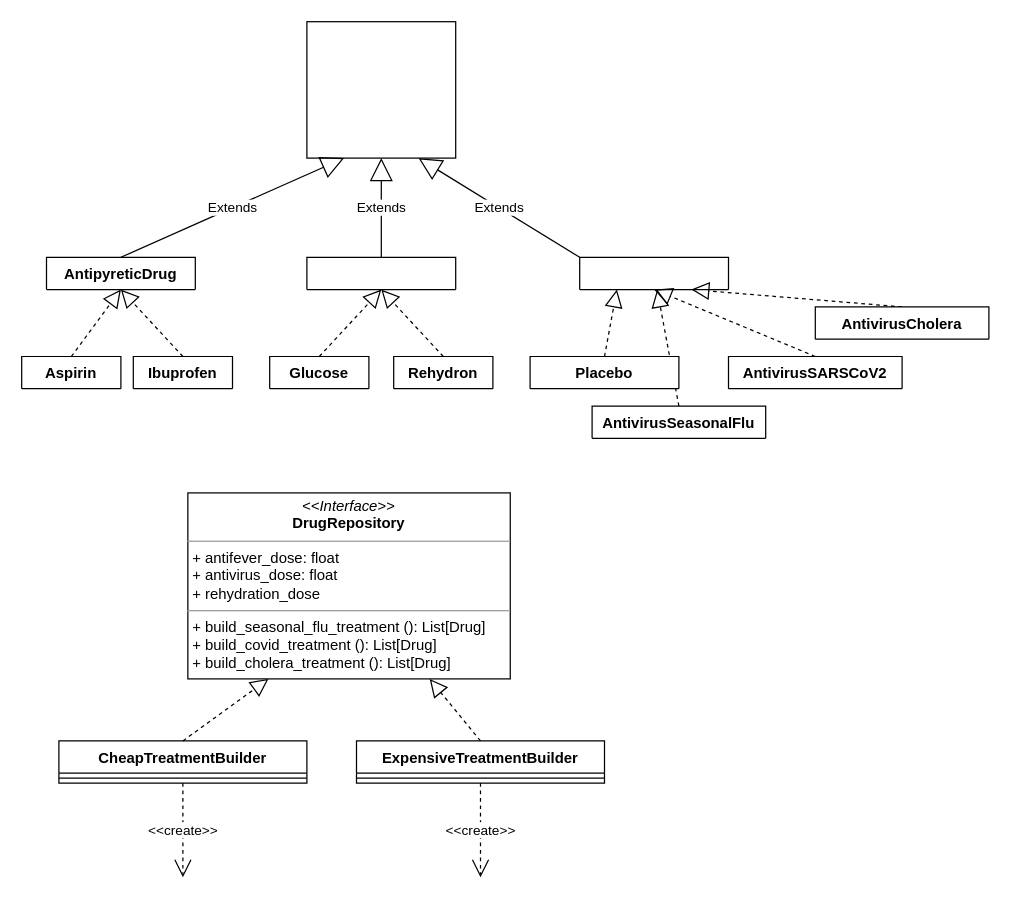
Image size: 1011x916. Some labels were removed from this diagram. The shapes that lost their labels are listed below. From the top down, each one's centre as x and y in pixels, then its label:
At point 381,89: "<<Interface>> Drug + efficiency: float + dose: float + apply (Person):".
At point 381,273: "RehydrationDrug".
At point 653,273: "AntivirusDrug".
